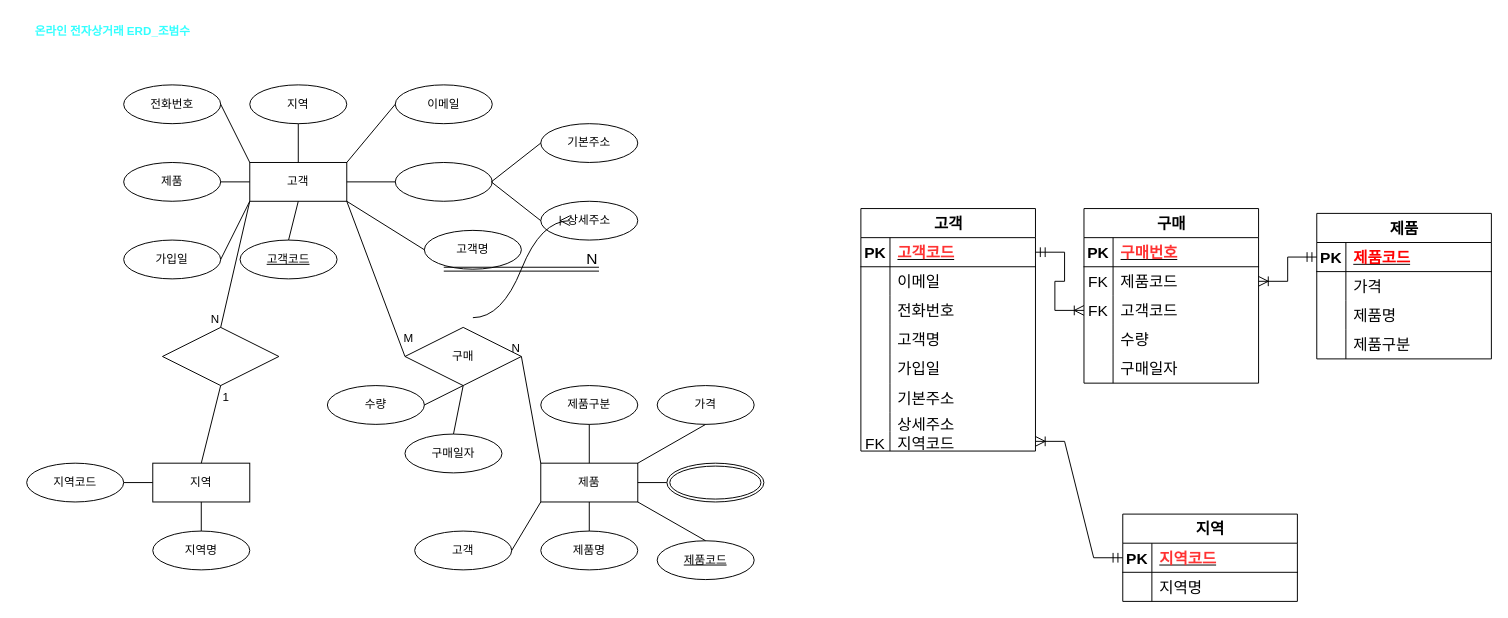
Image size: 1508x618. Some labels were removed from this diagram. Here are the shapes that lost their labels. From the top down, the centre of each, then its label:
At (443,181): "주소".
At (220,356): "관리".
At (715,482): "제품색상".
